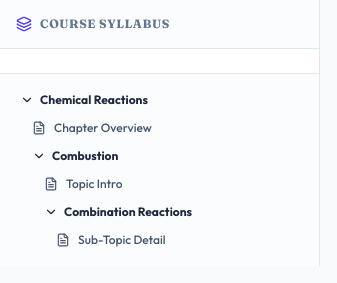
it: CoursePlayerSidebar › collapsing a Chapter hides its Pages and child Topics
What coordinates should you click on to do the following:
click the button "Chemical Reactions"
I would click on:
 (94, 100)
Its box is [12,86,307,114].
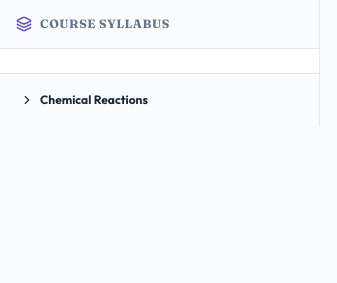
Now the button "Chapter Overview" is gone
Now the button "Combustion" is gone
